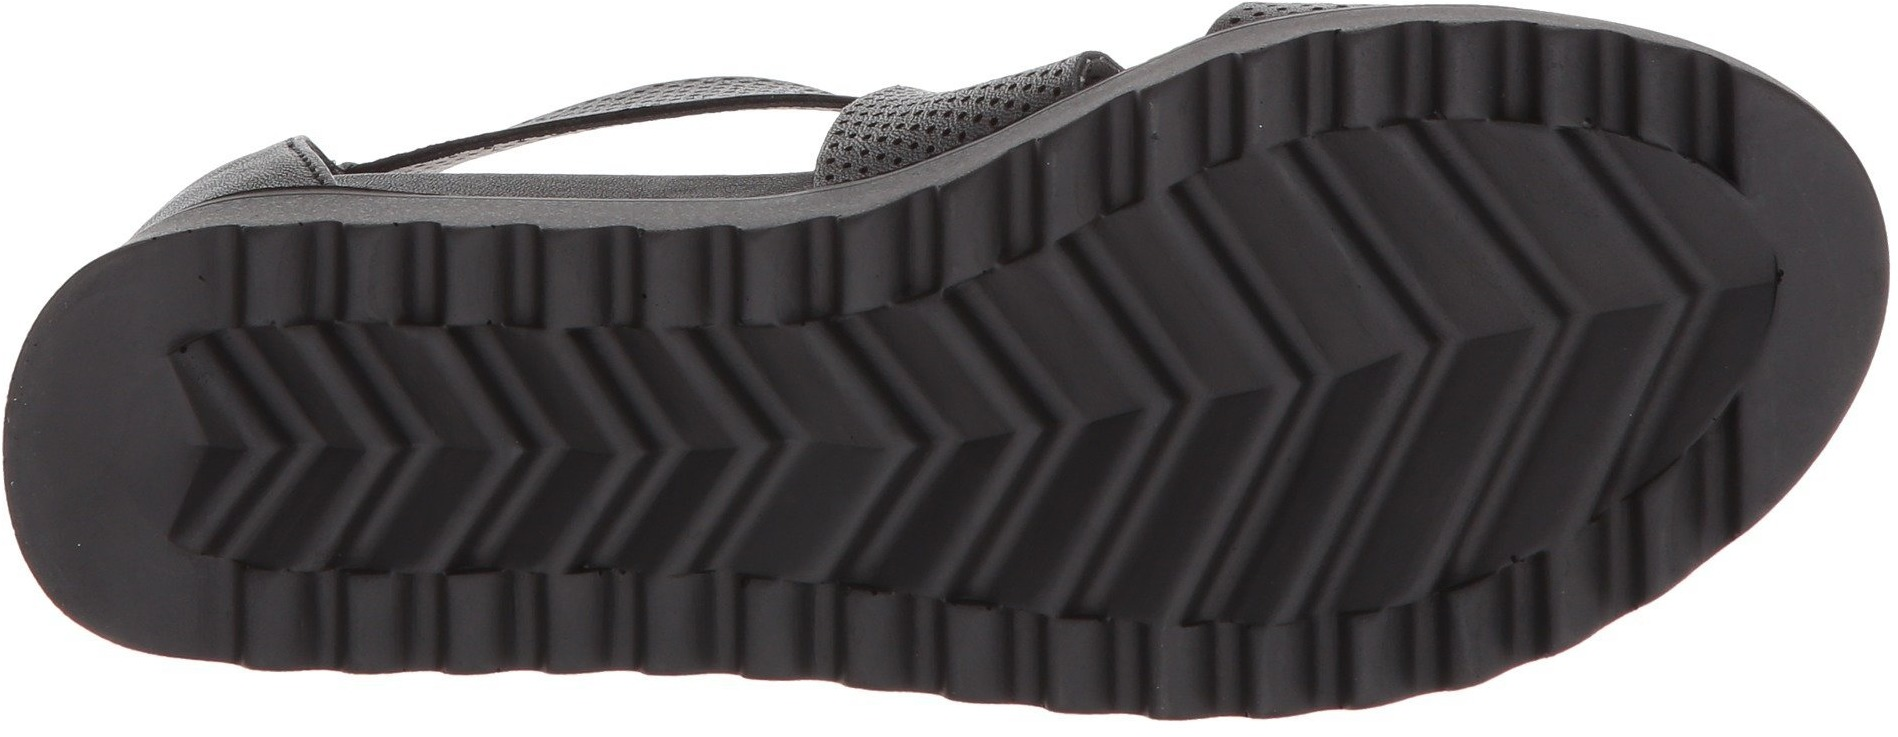chevron: (628, 336, 885, 568), (902, 300, 1125, 516), (416, 330, 623, 562), (1137, 280, 1344, 499), (195, 334, 401, 541), (1356, 246, 1572, 428), (1587, 211, 1760, 398)
quad: (1122, 622, 1229, 719)
